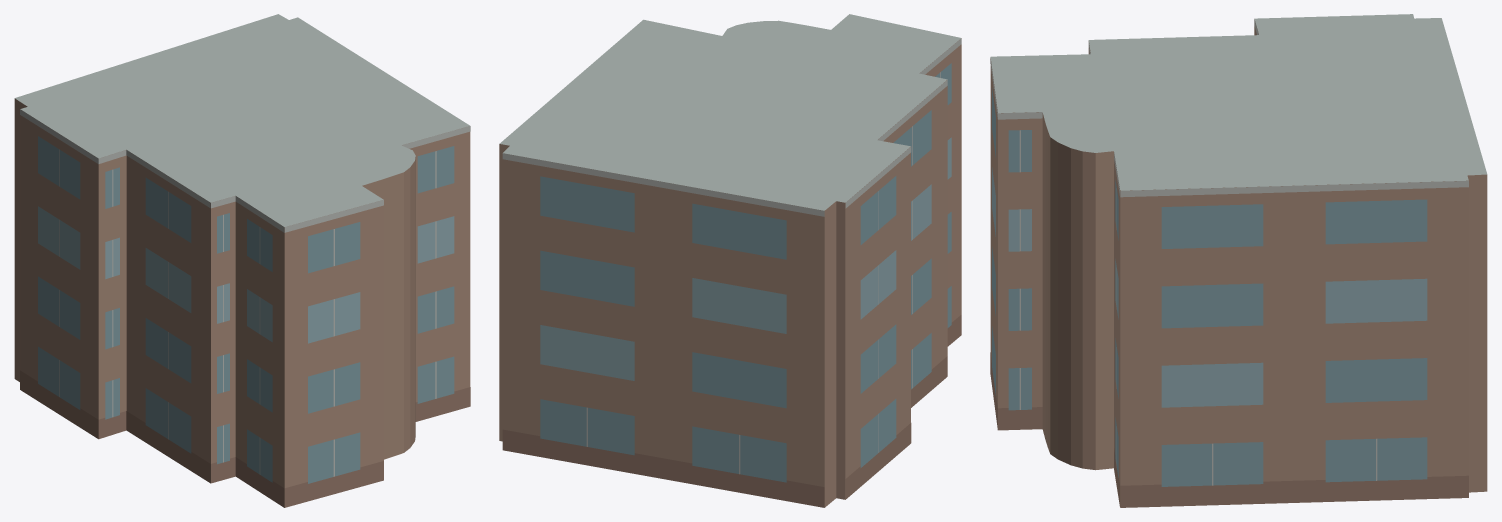
Rendered from survey-upis-32671941.glb.
3 renders of one model, left to right at view 1: azimuth 30°, elevation 25°; view 2: azimuth 150°, elevation 25°; view 3: azimuth 270°, elevation 25°, orthographic. The views are drawn at different scales.
Parts seen in each view (by area): view 1: survey-upis-32671941.tmp; view 2: survey-upis-32671941.tmp; view 3: survey-upis-32671941.tmp.
Part boxes in pixels (x1,y1,x2,y2): survey-upis-32671941.tmp: [14, 14, 470, 507]; survey-upis-32671941.tmp: [499, 14, 961, 507]; survey-upis-32671941.tmp: [990, 14, 1487, 507].
Bounding box in the file's own units: 14.23 × 11.9 × 16.91.
